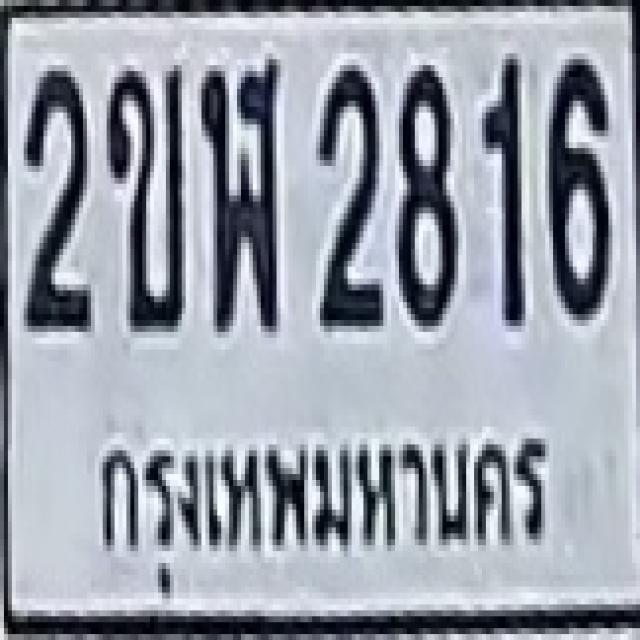-: (200, 53, 278, 326), (104, 65, 184, 326)
1: (480, 56, 523, 323)
2: (20, 65, 91, 326), (314, 62, 381, 323)
6: (546, 53, 608, 314)
8: (395, 62, 454, 323)
BKK: (84, 403, 561, 608)
